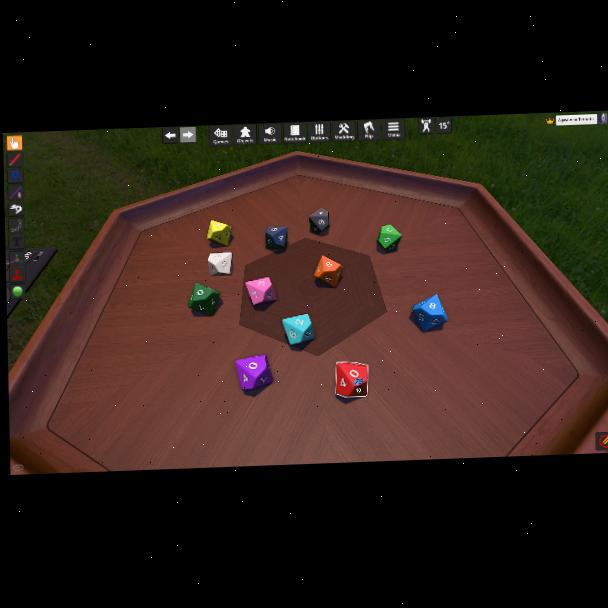d10: (333, 360, 368, 399), (235, 355, 272, 391), (413, 293, 445, 331), (188, 281, 221, 316), (281, 313, 314, 345), (313, 255, 343, 289), (245, 277, 276, 306), (207, 219, 232, 247), (378, 225, 401, 253), (208, 251, 232, 276), (265, 226, 288, 250), (309, 210, 329, 235)
